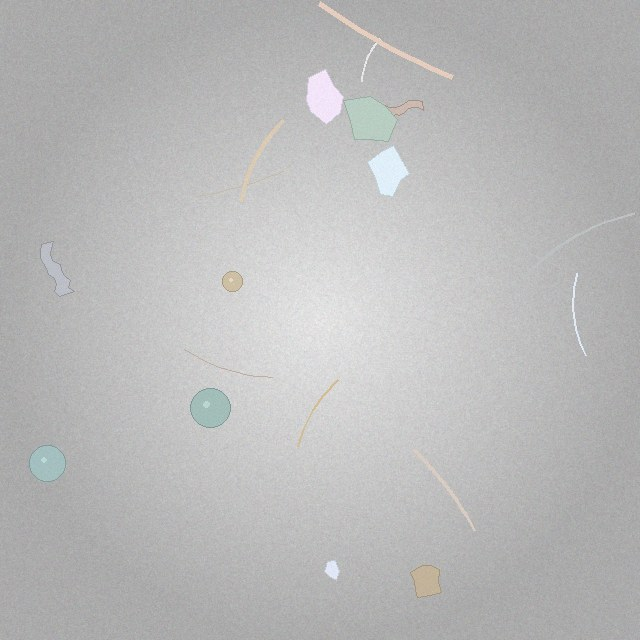fiber: (313, 0, 458, 83), (523, 210, 638, 278), (409, 445, 478, 534), (236, 117, 288, 206), (294, 378, 340, 450), (183, 348, 274, 379), (193, 169, 286, 199), (570, 271, 588, 358), (360, 37, 382, 83)
film: (40, 241, 75, 296), (380, 100, 423, 119)
fragment: (343, 97, 398, 142), (367, 146, 409, 197), (306, 70, 343, 125), (411, 565, 441, 598), (325, 561, 339, 580)
pellet: (191, 388, 230, 428), (30, 446, 66, 481), (223, 272, 243, 292)
